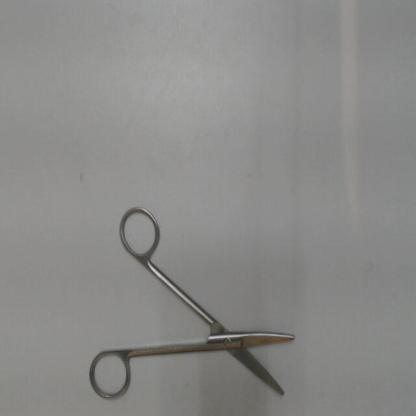Curved Mayo Scissors: (84, 196, 302, 408)
